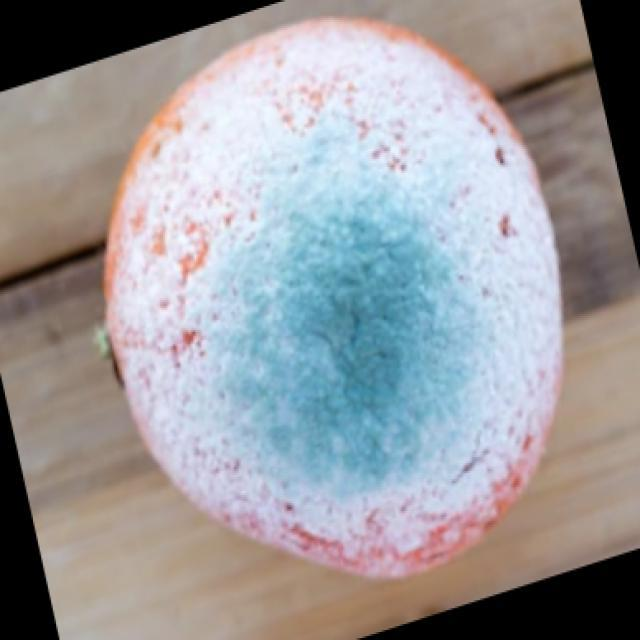sangat-busuk: (105, 19, 561, 576)
